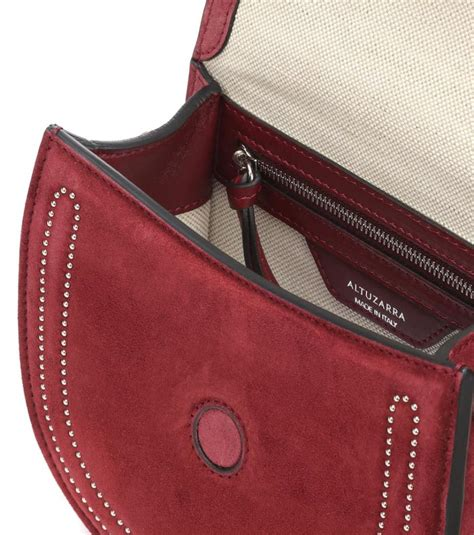gamuza: (17, 88, 474, 535)
